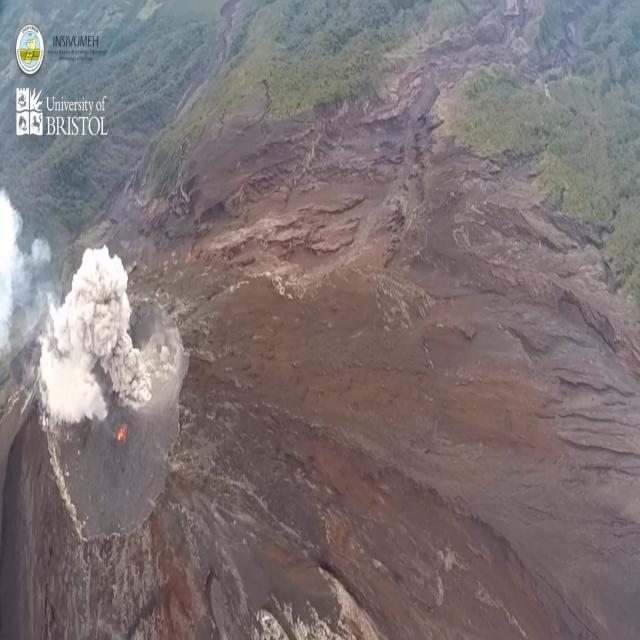Plume: (49, 242, 152, 428)
Summit: (20, 273, 202, 552)
